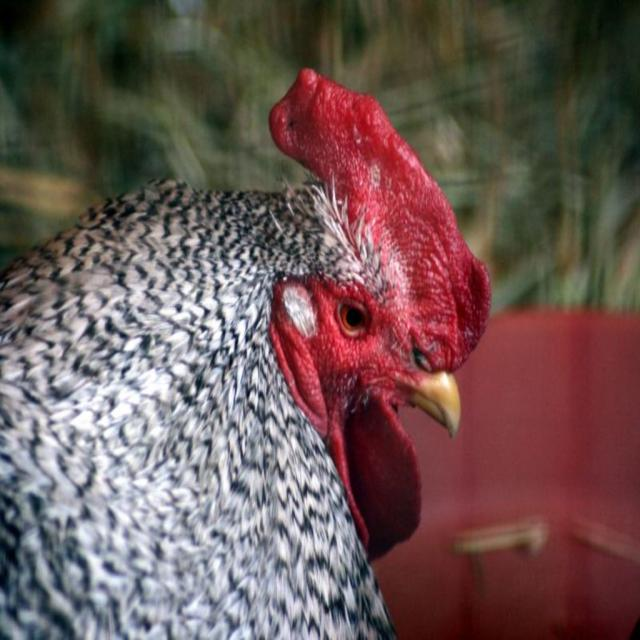Chicken: (0, 67, 488, 639)
